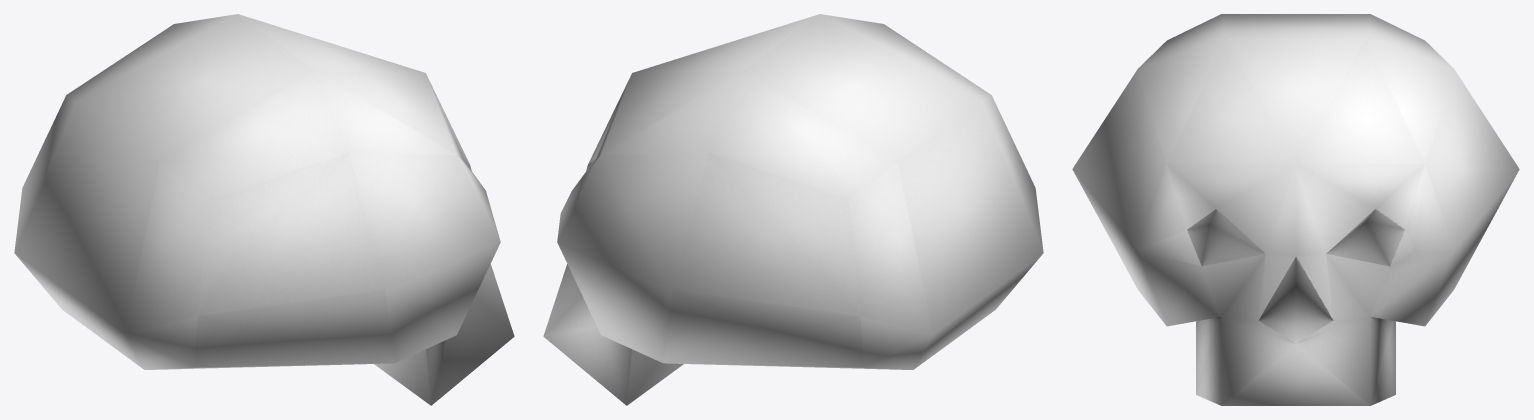
The model's file is Skull.dae.
3 views of the same model, side by side, from view 1: azimuth 30°, elevation 25°; view 2: azimuth 150°, elevation 25°; view 3: azimuth 270°, elevation 25° (orthographic). The views are drawn at different scales.
Visible parts, largest first — view 1: Cube; view 2: Cube; view 3: Cube.
Boxes of the visible parts, bbox=[...] form: Cube: bbox=[14, 14, 514, 405]; Cube: bbox=[543, 14, 1043, 405]; Cube: bbox=[1072, 14, 1519, 405].
Bounding box in the file's own units: 2.71 × 2.83 × 2.19.
1 material, 1 textured.
